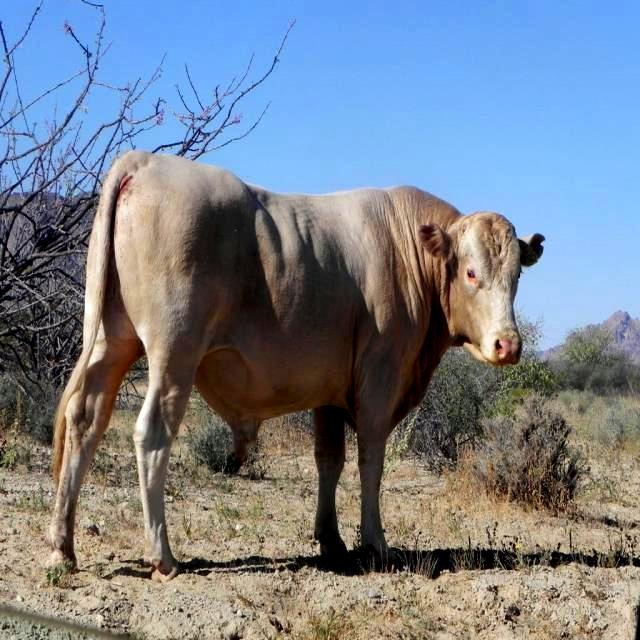COW: (50, 151, 542, 579)
